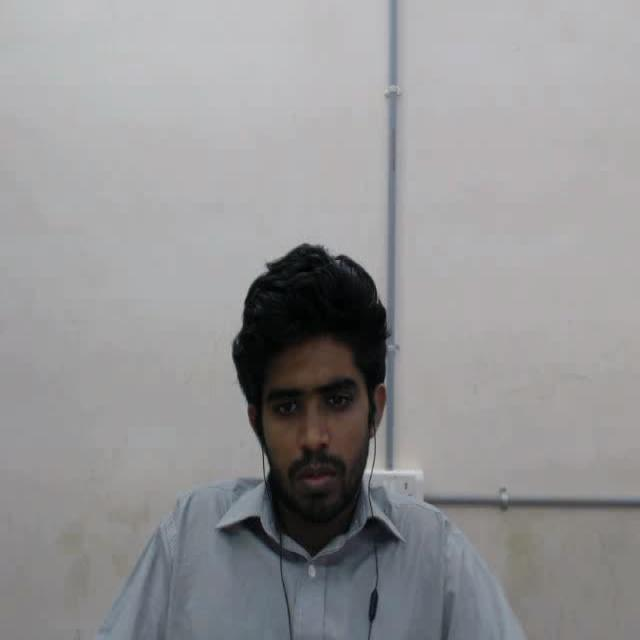Engaged: (207, 204, 420, 584)
